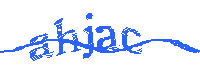a: (29, 33, 54, 61), (94, 25, 119, 53)
c: (121, 26, 143, 56)
h: (53, 17, 82, 56)
j: (82, 12, 93, 60)
